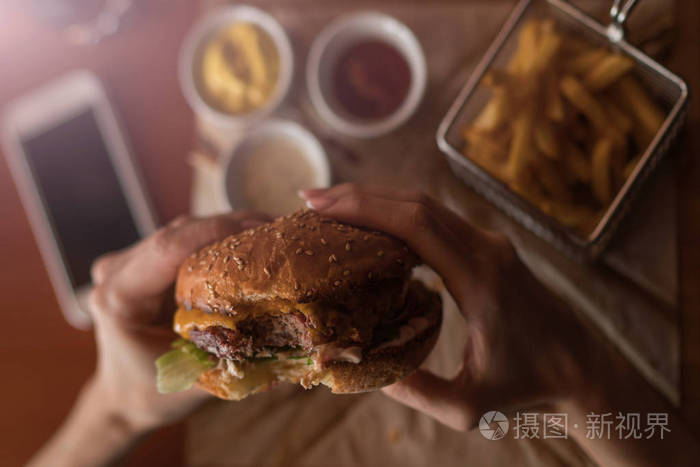no-phone: (84, 188, 585, 439)
